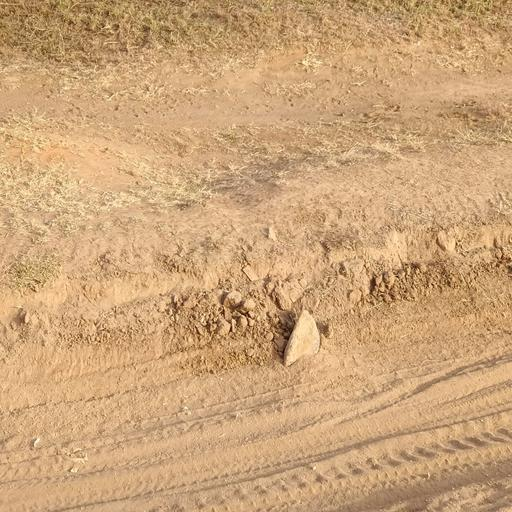vehicle_track: (0, 320, 512, 512)
